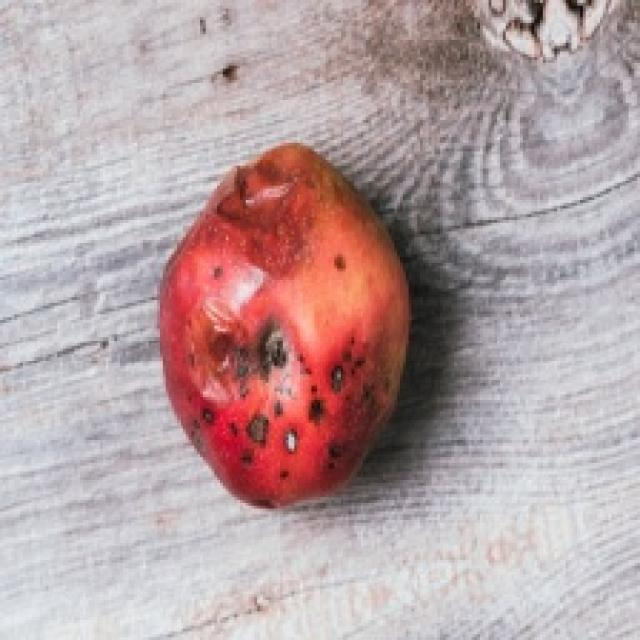rotten_apple: (167, 148, 410, 503)
